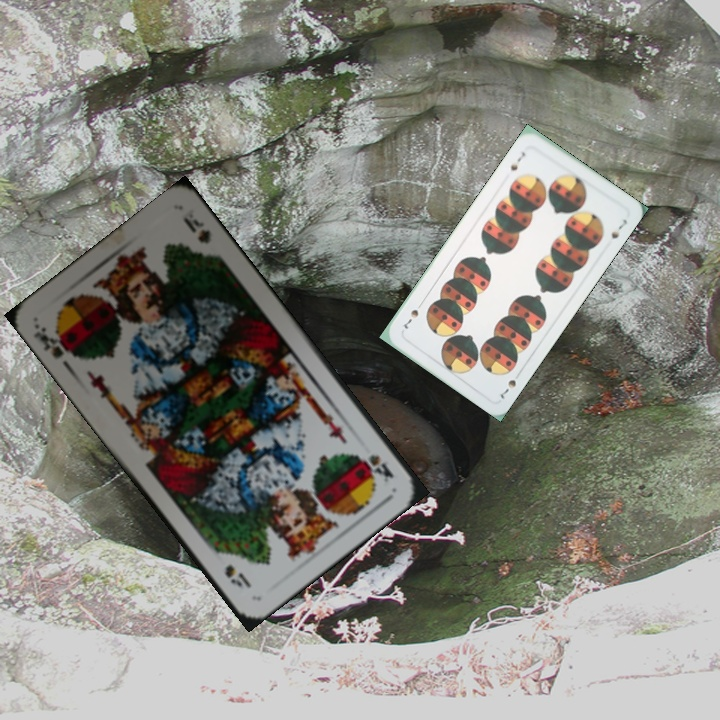S7: (496, 375, 519, 401), (506, 147, 528, 173)
SK: (29, 321, 79, 362), (359, 450, 396, 485)
